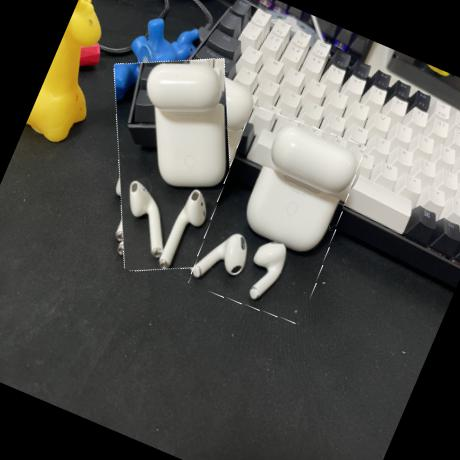airpod2: (62, 34, 286, 295)
airpod3: (182, 102, 372, 328)
